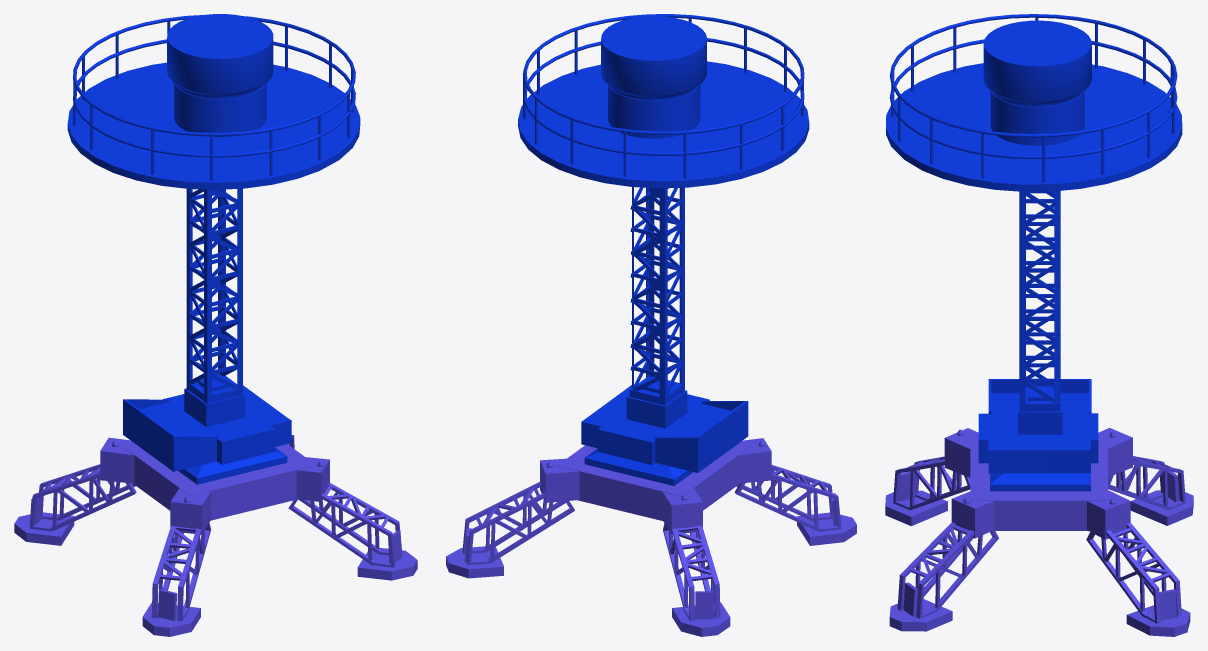
Rendered from Body.FBX.
3 views of the same model, side by side, from view 1: azimuth 30°, elevation 25°; view 2: azimuth 150°, elevation 25°; view 3: azimuth 270°, elevation 25° (orthographic). The views are drawn at different scales.
Parts seen in each view (by area): view 1: Body, Box004; view 2: Body, Box004; view 3: Body, Box004.
Part boxes in pixels (x1,y1,x2,y2): Body: (67, 14, 360, 484); Box004: (14, 435, 417, 636); Body: (518, 14, 809, 485); Box004: (446, 438, 856, 636); Body: (886, 14, 1182, 491); Box004: (885, 428, 1193, 636).
Bounding box in the file's own units: 170 × 301 × 161.
